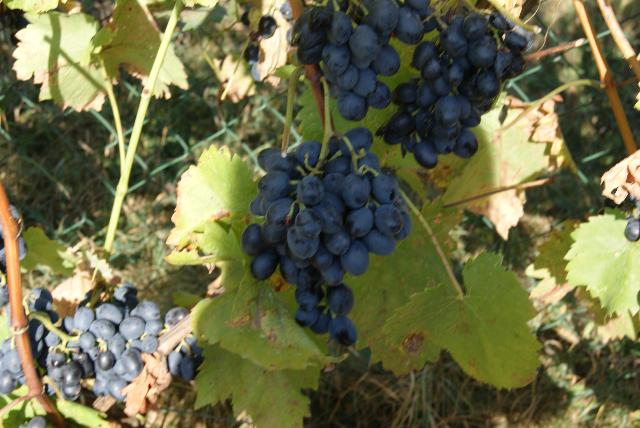grapes: (241, 128, 412, 346), (380, 11, 532, 168), (29, 282, 188, 401), (291, 0, 429, 121)
